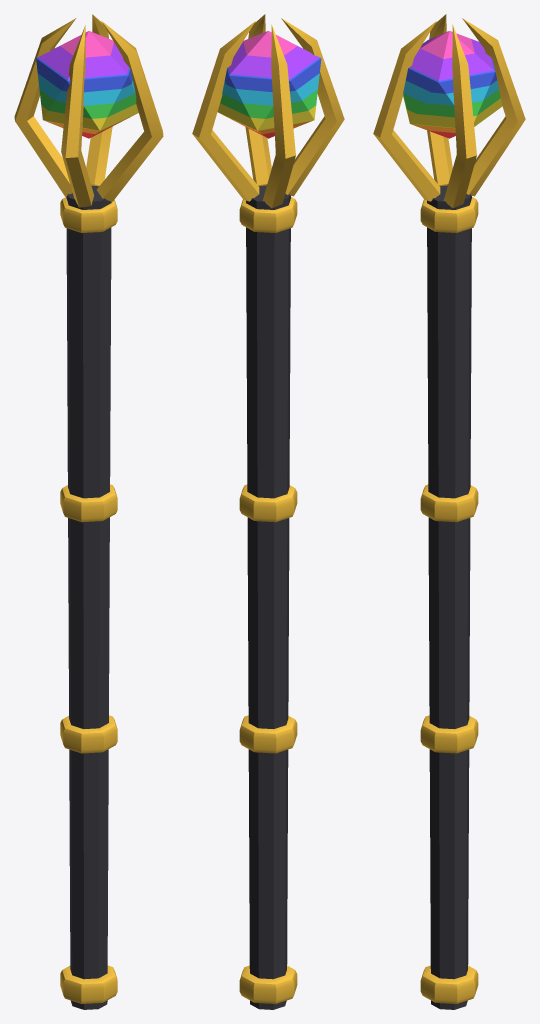
File: RainbowStaff.fbx
The picture shows the model from 3 angles, left to right: view 1: azimuth 30°, elevation 25°; view 2: azimuth 150°, elevation 25°; view 3: azimuth 330°, elevation 25°; orthographic projection.
Visible parts, largest first — view 1: RainbowStaff; view 2: RainbowStaff; view 3: RainbowStaff.
Boxes of the visible parts, left/top/right/bottom form: RainbowStaff: left=14, top=14, right=163, bottom=1009; RainbowStaff: left=192, top=14, right=344, bottom=1009; RainbowStaff: left=373, top=14, right=525, bottom=1009.
Size of the model in its own units: 0.5508 by 5.1 by 0.5508.
1 material, 1 textured.
